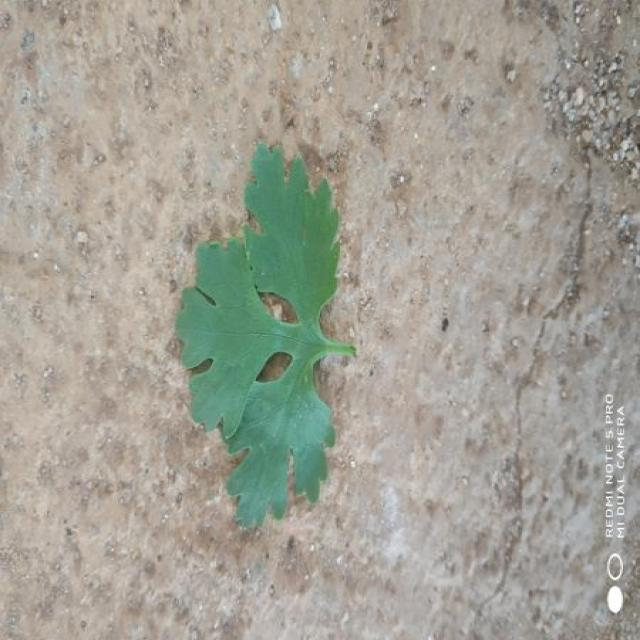coriender: (177, 144, 355, 527)
